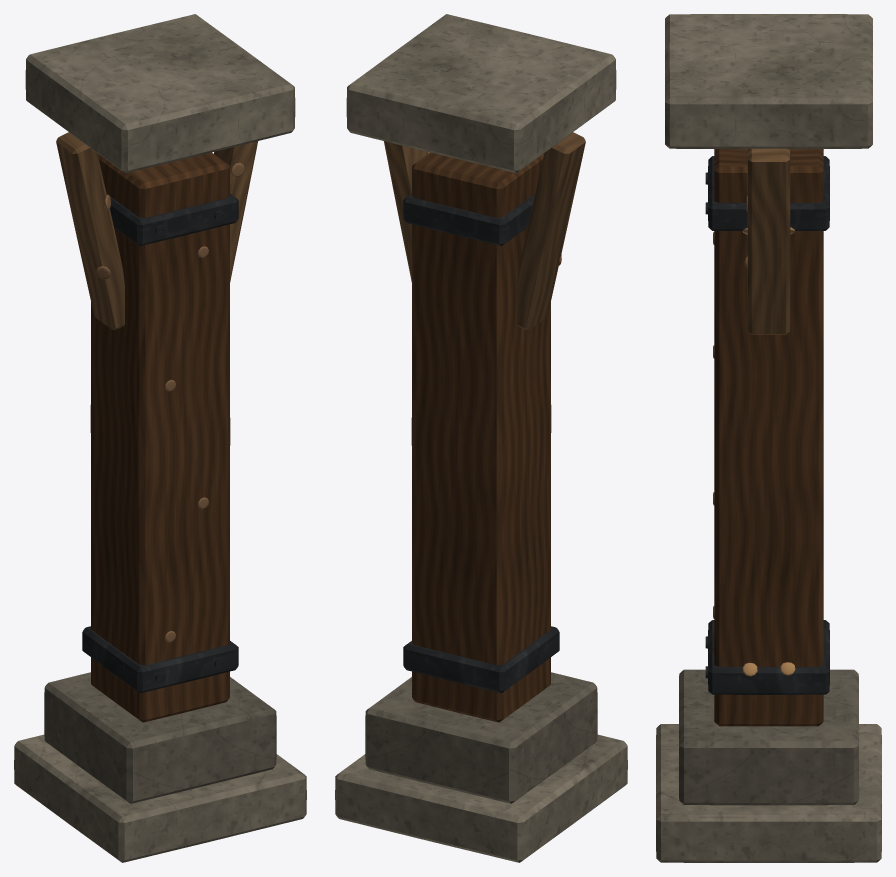
3 views of the same model, side by side, from view 1: azimuth 30°, elevation 25°; view 2: azimuth 150°, elevation 25°; view 3: azimuth 270°, elevation 25° (orthographic). The views are drawn at different scales.
Visible parts, largest first — view 1: quarter-sawn-timber, dressed-fieldstone-edges, fieldstone-ashlar, exposed-end-grain, blackened-forged-iron; view 2: quarter-sawn-timber, dressed-fieldstone-edges, fieldstone-ashlar, exposed-end-grain, blackened-forged-iron; view 3: quarter-sawn-timber, dressed-fieldstone-edges, fieldstone-ashlar, exposed-end-grain, blackened-forged-iron.
Boxes of the visible parts, x1,y1,x2,y2 form: quarter-sawn-timber: [90, 152, 230, 722]; dressed-fieldstone-edges: [14, 14, 306, 862]; fieldstone-ashlar: [44, 672, 276, 803]; exposed-end-grain: [56, 132, 257, 330]; blackened-forged-iron: [82, 193, 238, 693]; quarter-sawn-timber: [411, 152, 551, 722]; dressed-fieldstone-edges: [335, 14, 627, 862]; fieldstone-ashlar: [365, 672, 597, 803]; exposed-end-grain: [384, 132, 585, 330]; blackened-forged-iron: [403, 193, 559, 693]; quarter-sawn-timber: [714, 149, 823, 726]; dressed-fieldstone-edges: [656, 14, 881, 862]; fieldstone-ashlar: [679, 669, 858, 805]; exposed-end-grain: [747, 148, 790, 334]; blackened-forged-iron: [705, 156, 829, 694].
Bounding box in the file's own units: 0.6534 × 2.38 × 0.64.
8 materials, 6 textured.
